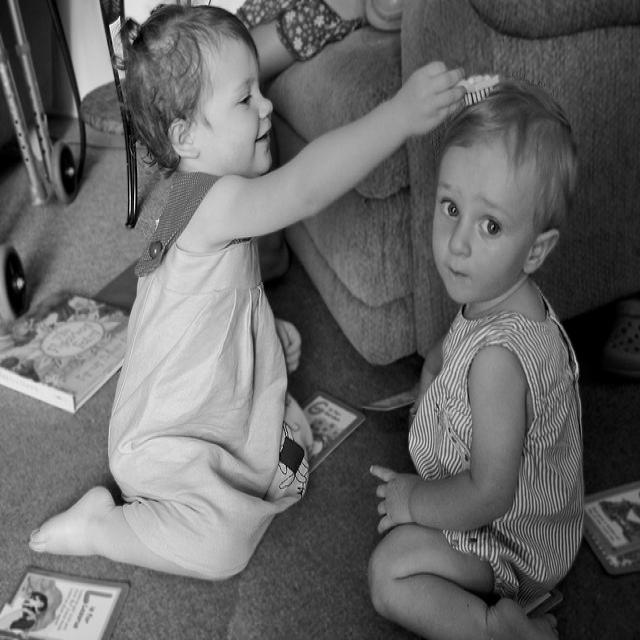monkey: (28, 4, 472, 587), (368, 76, 586, 640), (235, 0, 410, 74)
